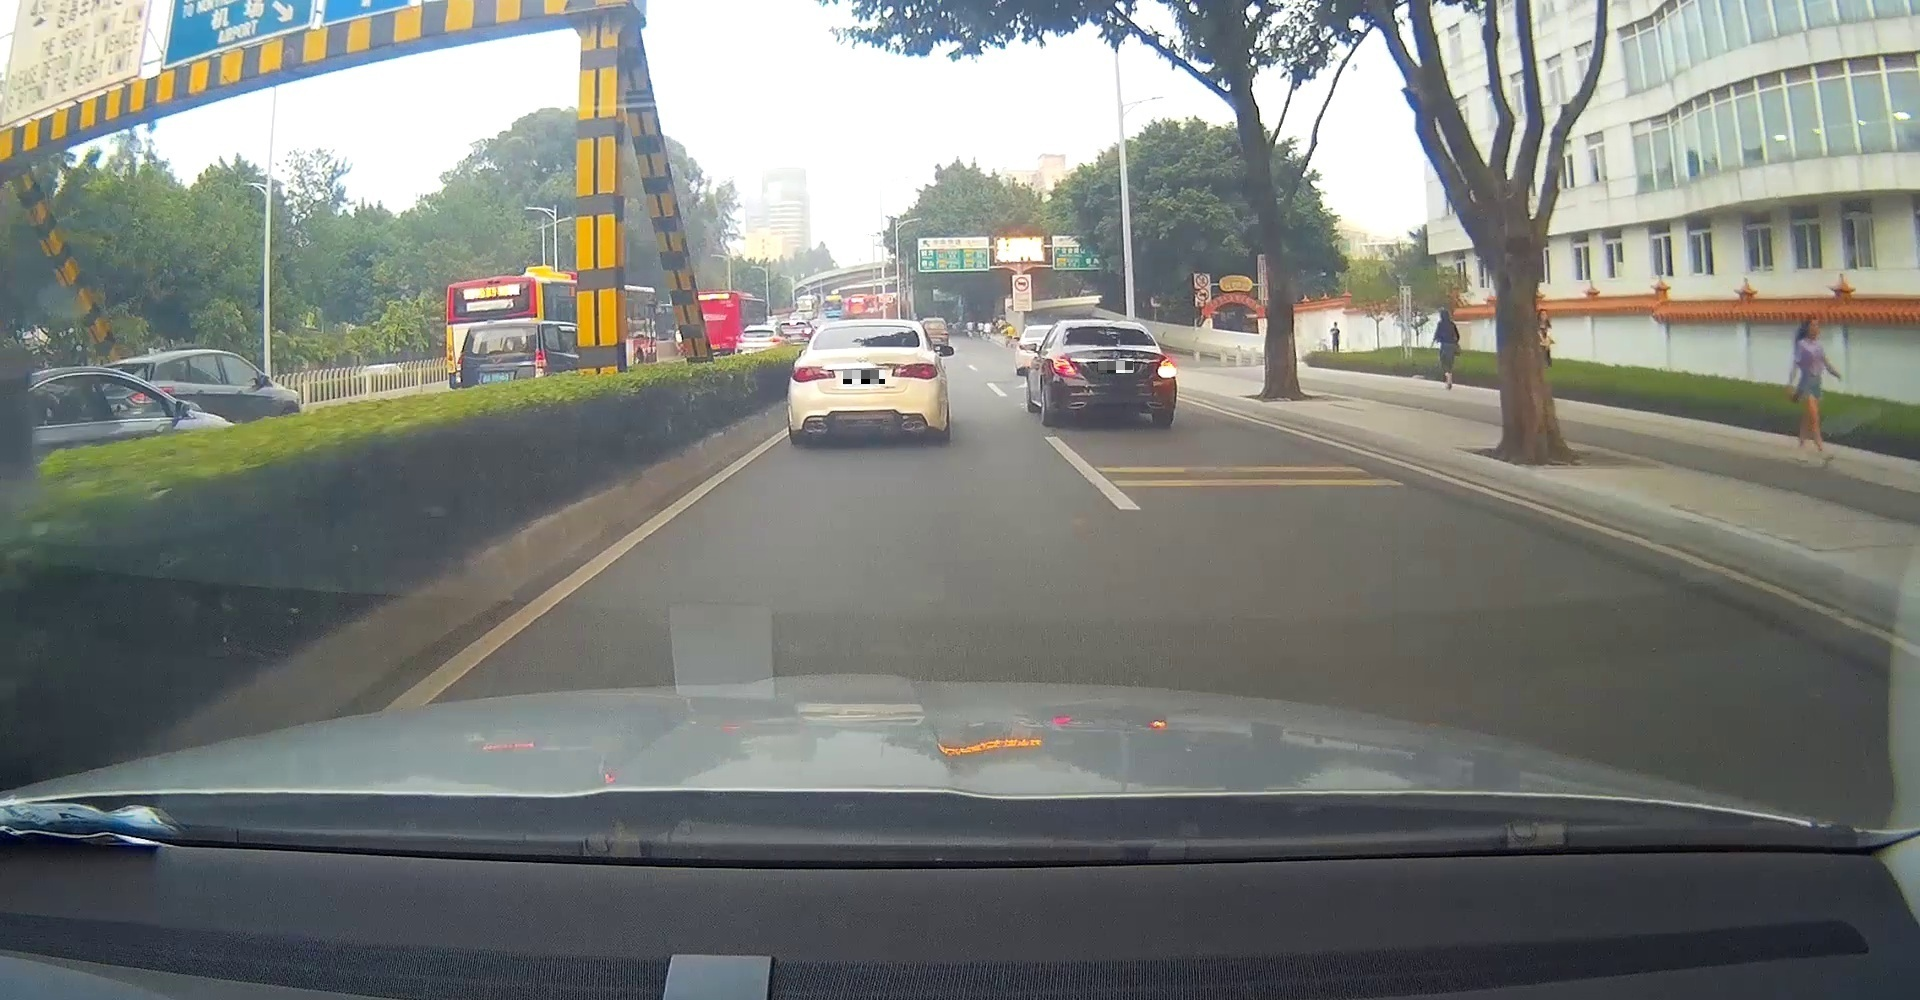L_light: (790, 365, 836, 383), (1051, 352, 1079, 378)
R_light: (891, 363, 938, 379), (1156, 354, 1176, 378)
T_light: (857, 326, 886, 331), (1100, 326, 1120, 331)
day-no: (787, 319, 943, 444)
day-right: (1048, 322, 1177, 426)
plate_1: (843, 371, 885, 385)
plate_2: (1098, 360, 1133, 373)
